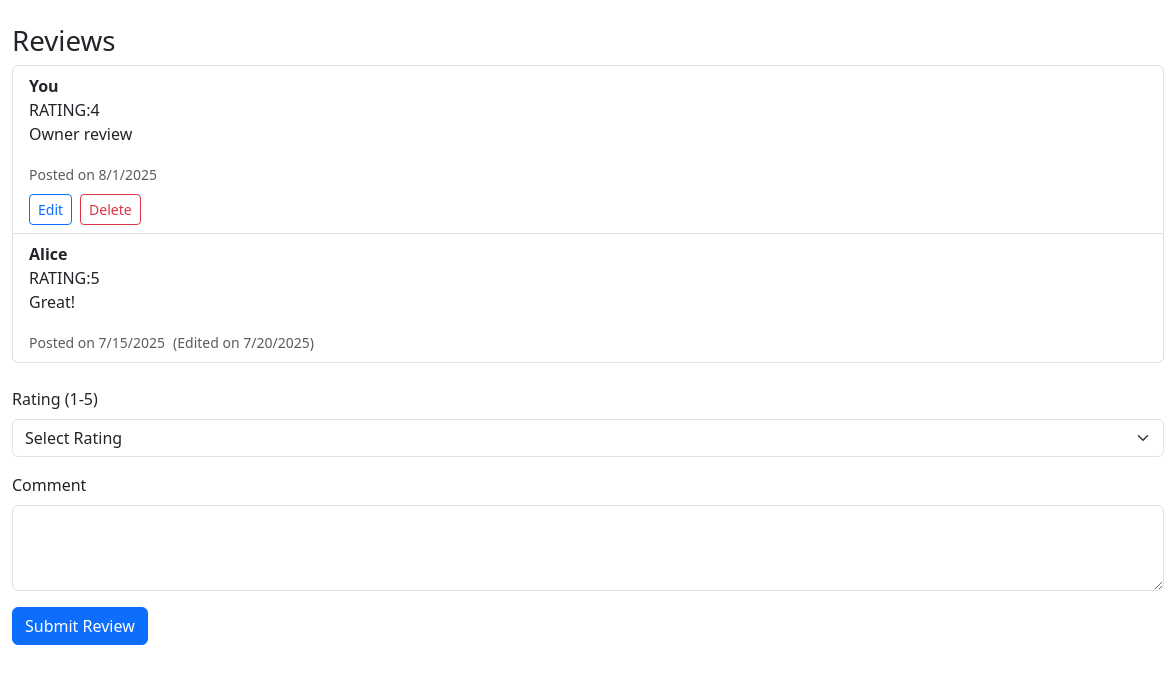
<ProductReviews /> › can edit own review and reloads list
Note: Open edit on owner review
Click the button "Edit" at [51, 210], box [29,194,72,225]
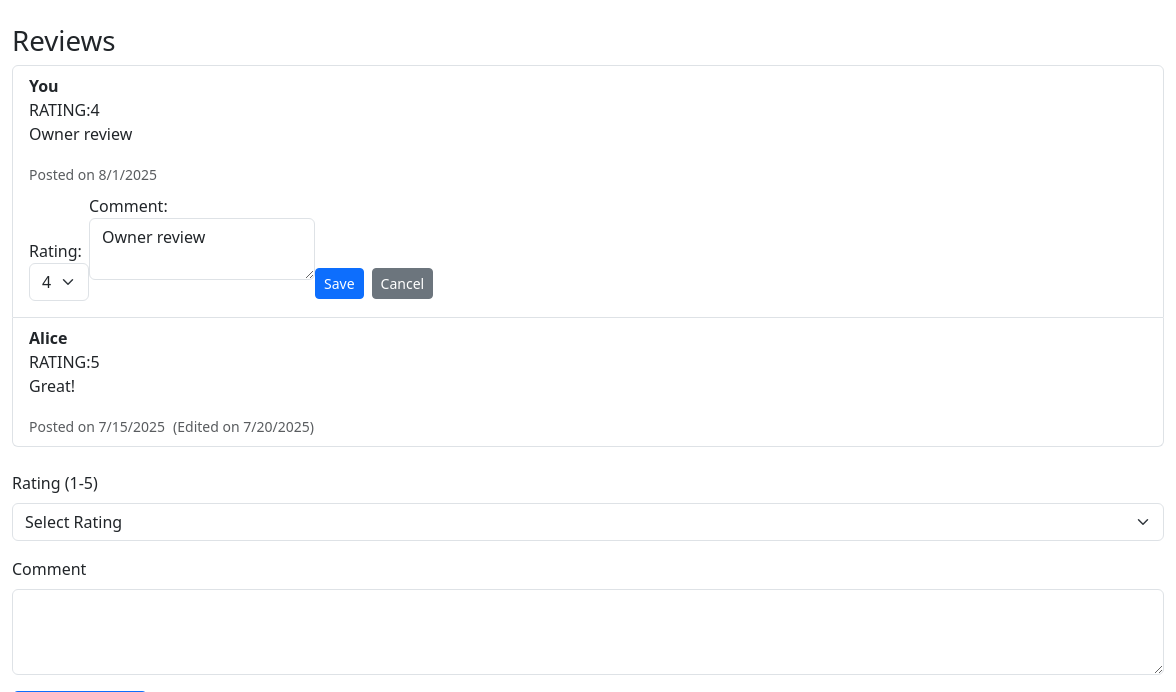
Expected: the form "Rating: Comment: Save Cancel" is shown, [29,195,433,301]
Select "5" in the dropdown labelled "Rating:" at [59, 282], box [29,263,89,301]
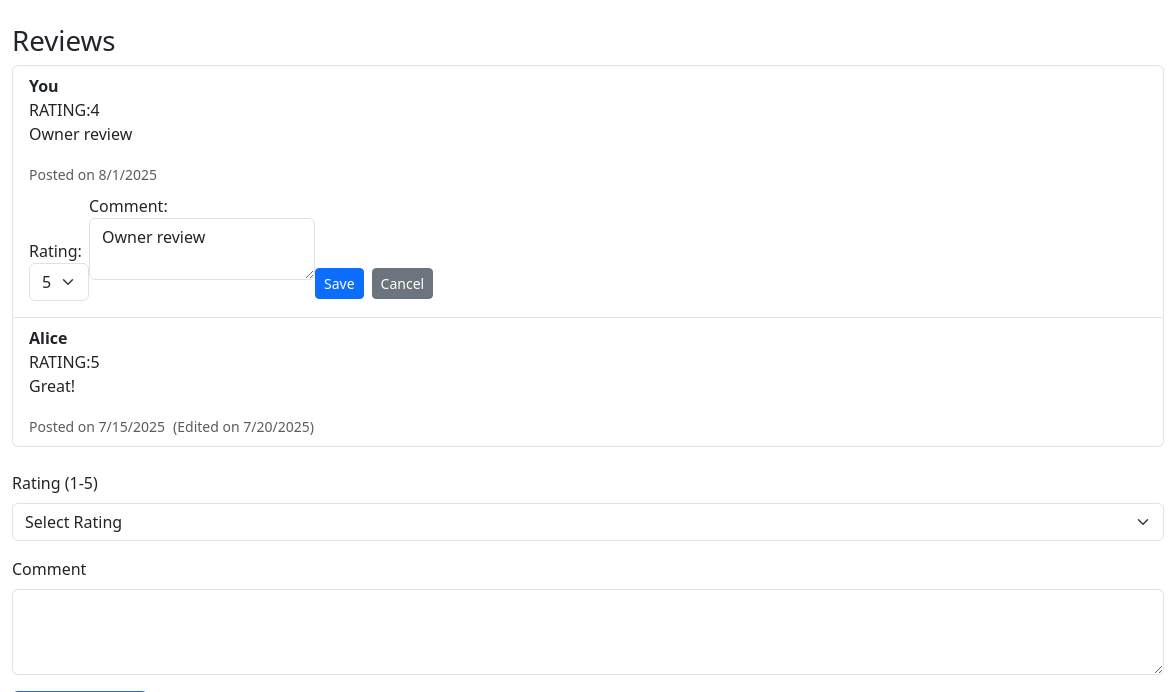
Replace the text in the text box labelled "Comment:" with "Updated comment" at [202, 249], box [89,218,315,280]
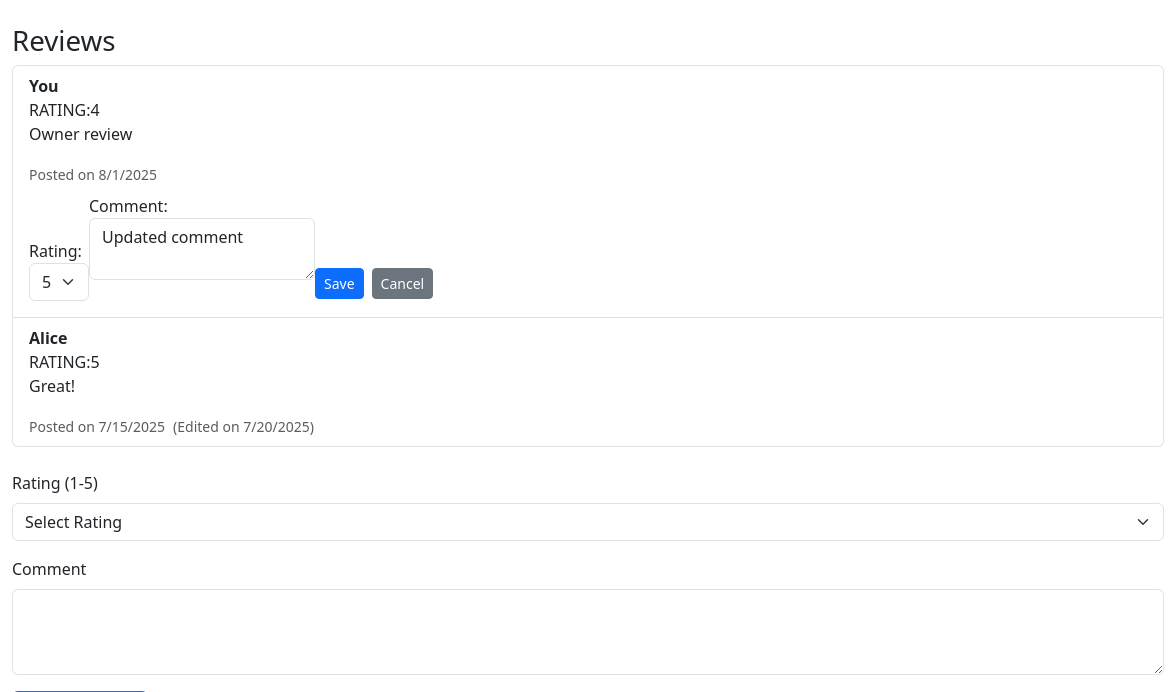
Click the button "Save" at [339, 284], box [315,268,364,300]
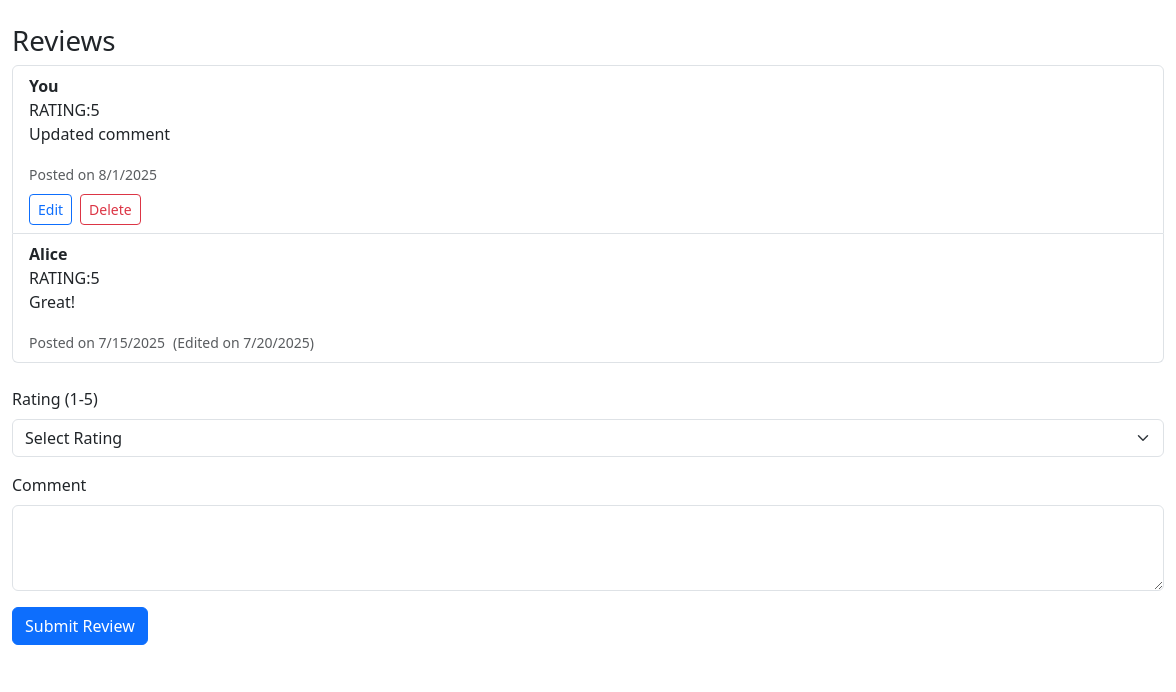
Expected: the text "Updated comment" is shown, [29,123,170,145]
